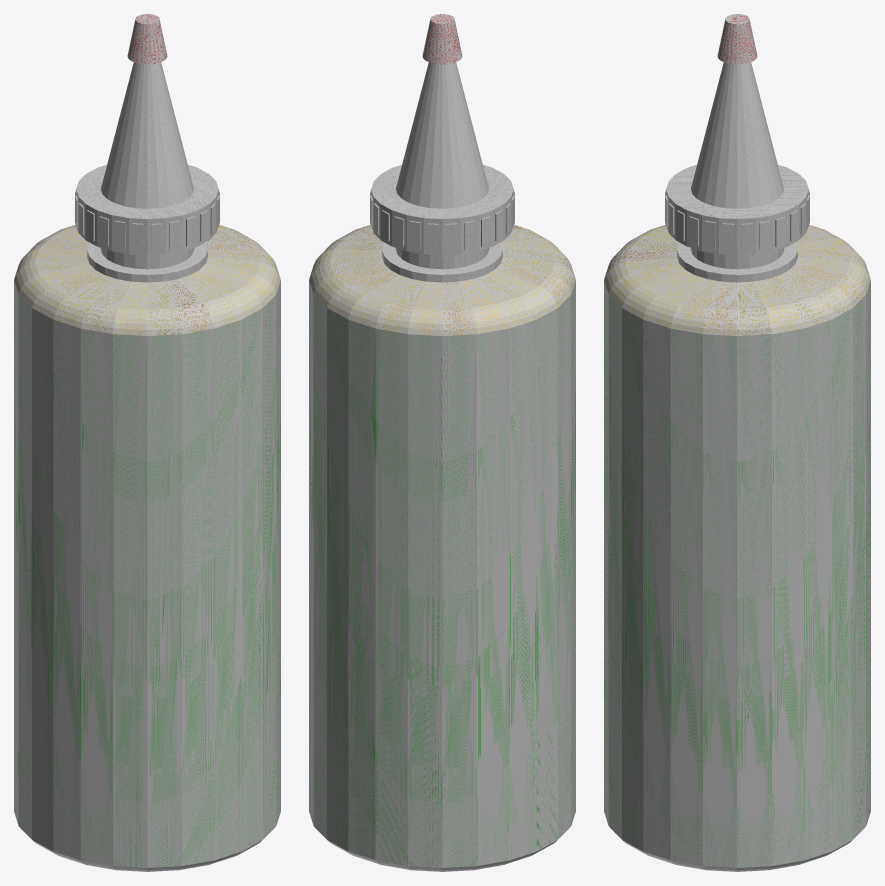
3 renders of one model, left to right at view 1: azimuth 30°, elevation 25°; view 2: azimuth 150°, elevation 25°; view 3: azimuth 270°, elevation 25°, orthographic.
Visible parts, largest first — view 1: mesh1_mesh1-geometry, mesh2_mesh2-geometry; view 2: mesh1_mesh1-geometry, mesh2_mesh2-geometry; view 3: mesh1_mesh1-geometry, mesh2_mesh2-geometry.
Boxes of the visible parts, x1,y1,x2,y2 form: mesh1_mesh1-geometry: [14, 62, 280, 871]; mesh2_mesh2-geometry: [127, 14, 167, 64]; mesh1_mesh1-geometry: [309, 62, 575, 871]; mesh2_mesh2-geometry: [422, 14, 462, 64]; mesh1_mesh1-geometry: [604, 62, 870, 871]; mesh2_mesh2-geometry: [717, 14, 757, 64].
Size of the model in its own units: 0.2766 by 0.9203 by 0.2766.
